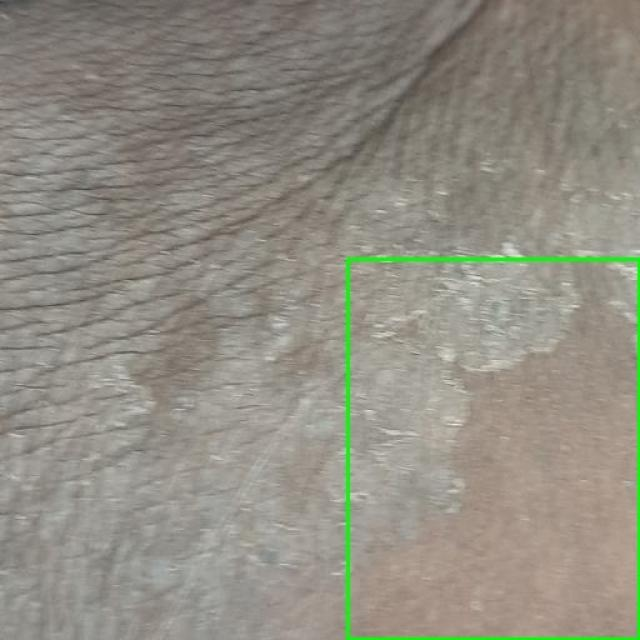Eczema: (348, 259, 639, 639)
